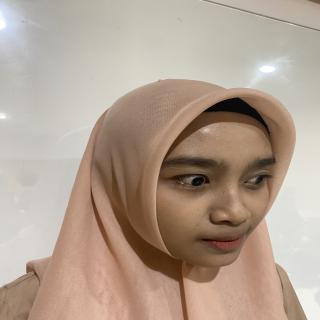Takut: (118, 89, 291, 273)
